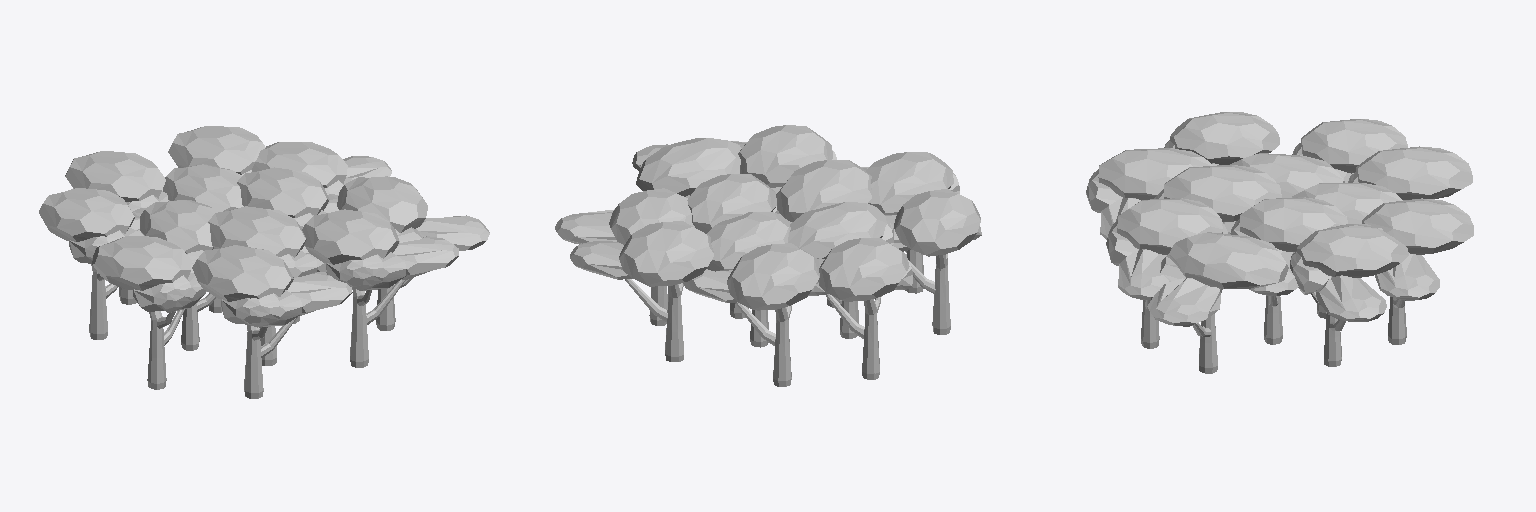
The model's file is threes_animated.obj.
3 renders of one model, left to right at view 1: azimuth 30°, elevation 25°; view 2: azimuth 150°, elevation 25°; view 3: azimuth 270°, elevation 25°, orthographic.
Parts seen in each view (by area): view 1: Platonic_10, Platonic_7, Platonic_11, Platonic_2, Platonic, Platonic_8, Platonic_1, Platonic_6, Platonic_9, Platonic_5, Platonic_3, Platonic_4 (+15 smaller); view 2: Platonic, Platonic_1, Platonic_2, Platonic_7, Platonic_9, Platonic_8, Platonic_11, Platonic_10, Platonic_5, Platonic_6, Platonic_3, Platonic_4 (+7 smaller); view 3: Platonic_9, Platonic, Platonic_4, Platonic_1, Platonic_8, Platonic_7, Platonic_11, Platonic_6, Platonic_2, Platonic_10, Platonic.2_9, Platonic_5 (+14 smaller).
Boxes of the visible parts, box(x1,y1,x2,y2) form: Platonic_10: box(192, 245, 293, 301); Platonic_7: box(92, 236, 191, 290); Platonic_11: box(302, 209, 399, 264); Platonic_2: box(39, 188, 134, 241); Platonic: box(65, 151, 165, 201); Platonic_8: box(208, 206, 306, 257); Platonic_1: box(168, 126, 265, 174); Platonic_6: box(237, 167, 329, 217); Platonic_9: box(337, 176, 427, 232); Platonic_5: box(140, 200, 216, 253); Platonic_3: box(163, 164, 243, 212); Platonic_4: box(252, 142, 347, 187); Platonic: box(727, 243, 819, 310); Platonic_1: box(619, 221, 713, 286); Platonic_2: box(818, 237, 909, 301); Platonic_7: box(894, 189, 980, 256); Platonic_9: box(636, 138, 741, 196); Platonic_8: box(776, 160, 872, 221); Platonic_11: box(738, 125, 832, 187); Platonic_10: box(866, 152, 953, 214); Platonic_5: box(788, 202, 886, 258); Platonic_6: box(687, 174, 776, 233); Platonic_3: box(707, 212, 790, 271); Platonic_4: box(609, 188, 694, 244); Platonic_9: box(1169, 232, 1288, 288); Platonic: box(1356, 146, 1472, 199); Platonic_4: box(1297, 224, 1408, 277); Platonic_1: box(1362, 198, 1473, 254); Platonic_8: box(1164, 165, 1281, 221); Platonic_7: box(1170, 112, 1279, 164); Platonic_11: box(1117, 198, 1222, 254); Platonic_6: box(1240, 197, 1347, 251); Platonic_2: box(1301, 119, 1407, 173); Platonic_10: box(1098, 148, 1212, 199); Platonic.2_9: box(1147, 278, 1220, 326); Platonic_5: box(1230, 153, 1344, 197).
Size of the model in its own units: 2504 by 932 by 2332.